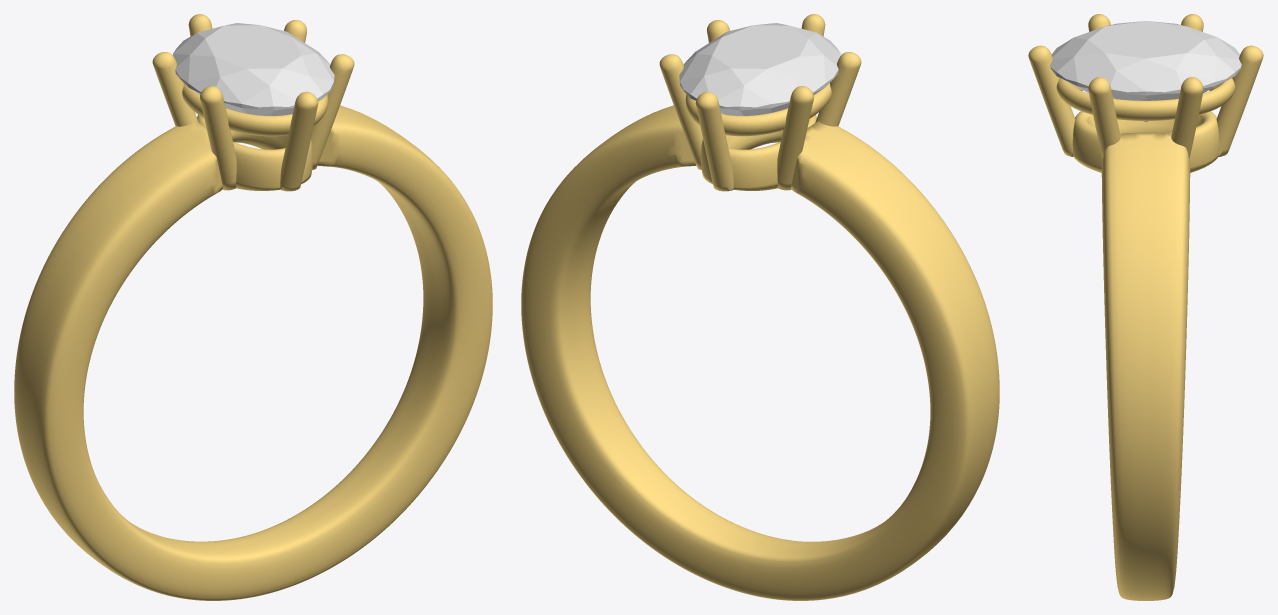
File: diamond-oval-yellowgold-6prong-straighttaperedband-nosidestones.glb
The picture shows the model from 3 angles, left to right: view 1: azimuth 30°, elevation 25°; view 2: azimuth 150°, elevation 25°; view 3: azimuth 270°, elevation 25°; orthographic projection.
Visible parts, largest first — view 1: metal, stone; view 2: metal, stone; view 3: metal, stone.
Part boxes in pixels (x1,y1,x2,y2): metal: (14,14,492,600); stone: (173,23,334,115); metal: (521,14,999,600); stone: (679,23,840,115); metal: (1028,14,1263,600); stone: (1050,21,1241,121).
Bounding box in the file's own units: 20.49 × 23.41 × 9.29.
